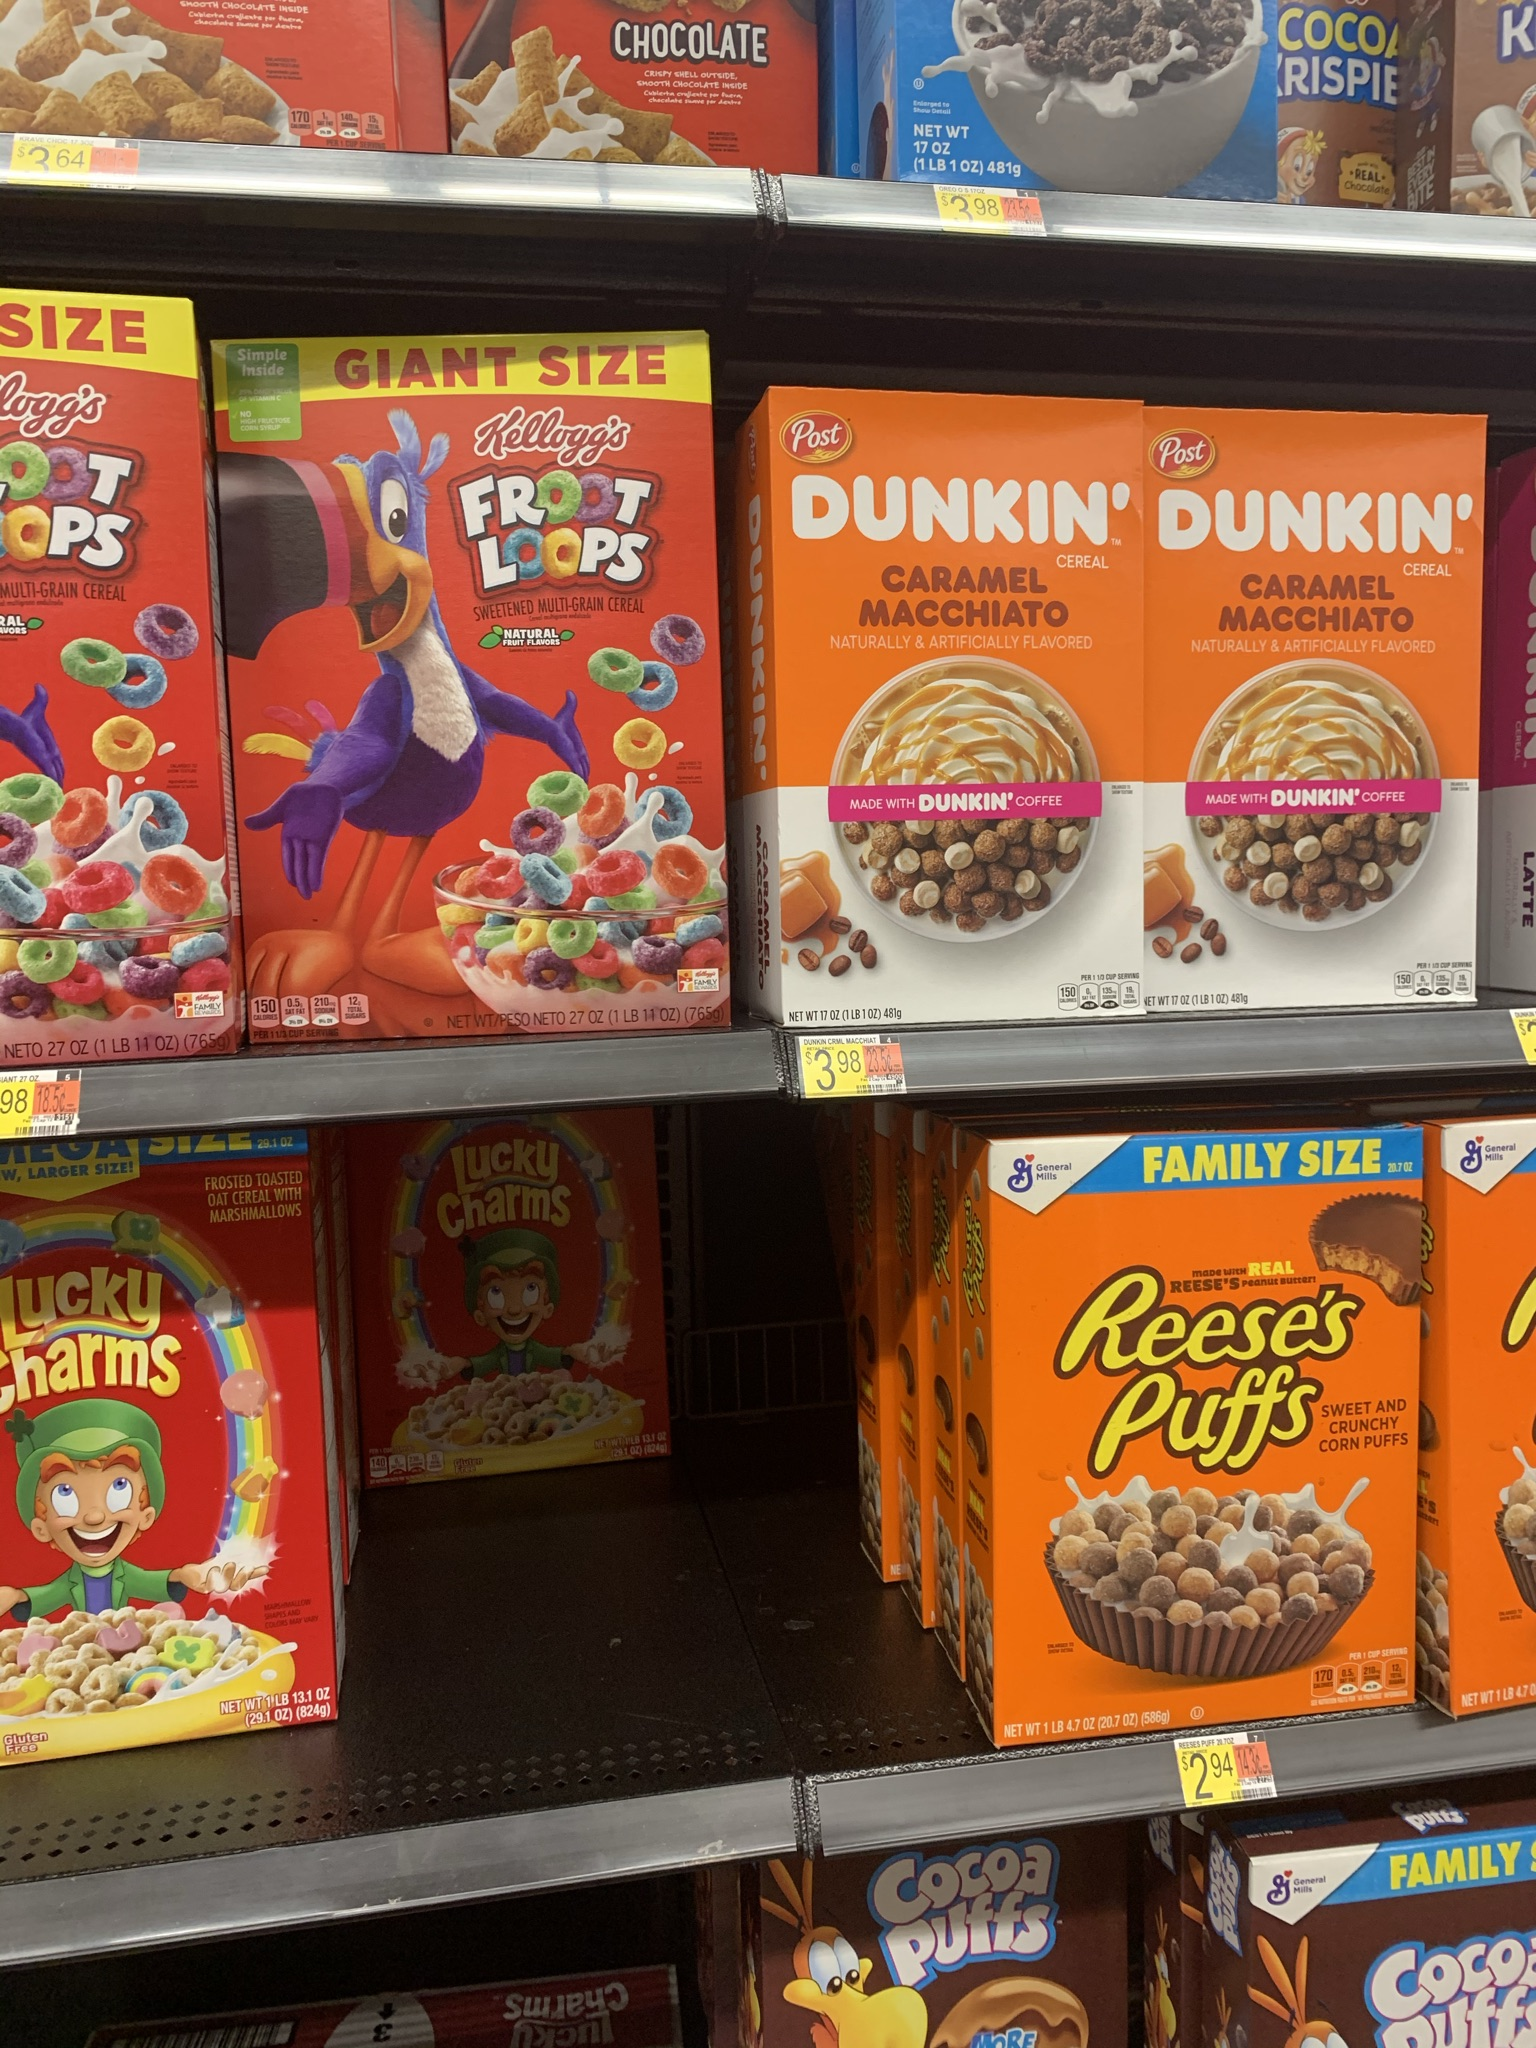Cereal dunkin: (766, 385, 1139, 1034), (1157, 410, 1471, 979)
Cereal kellogs: (211, 347, 728, 1029)
Cereal lucky charms: (3, 1161, 349, 1729), (365, 1134, 674, 1484)
Cereal reese: (1004, 1143, 1417, 1709)
